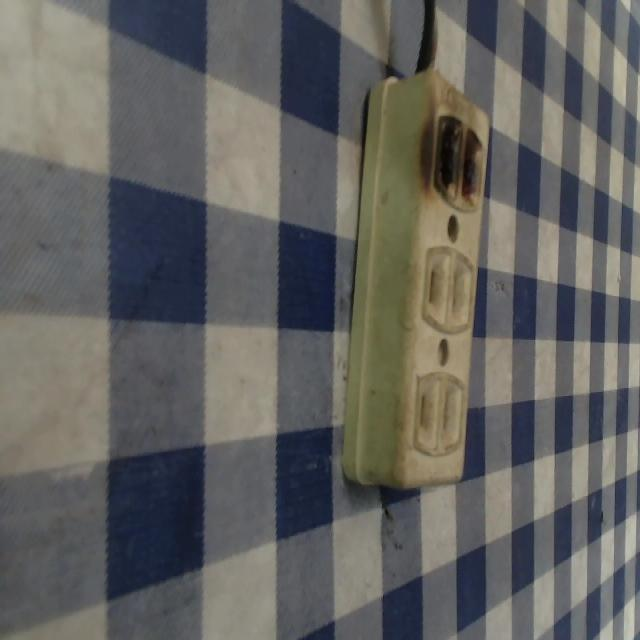-: (418, 103, 501, 213)
